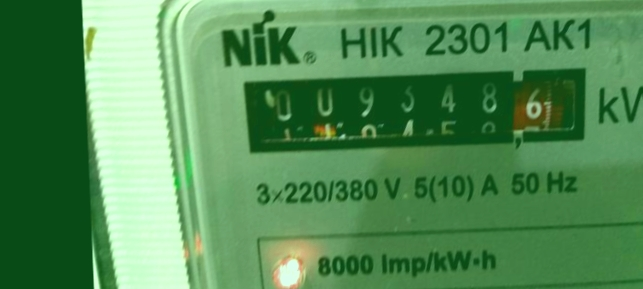0: (312, 82, 334, 119), (271, 86, 292, 122)
3: (394, 80, 417, 113)
4: (434, 78, 456, 116)
6: (521, 84, 544, 119)
8: (477, 78, 498, 113)
9: (355, 82, 374, 116)
screen: (218, 51, 607, 169)
